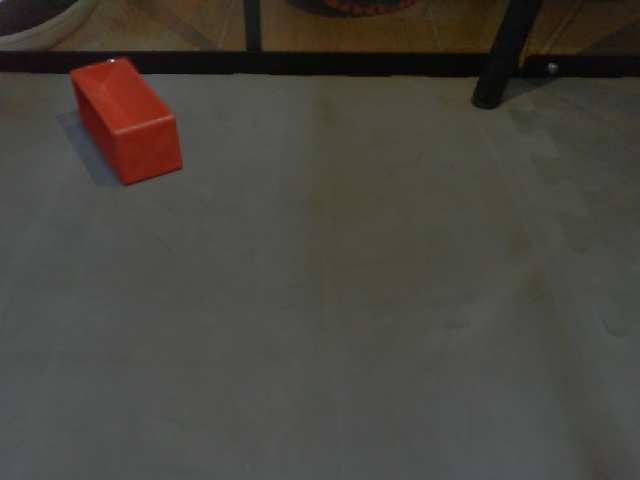RedSample: (63, 55, 187, 189)
